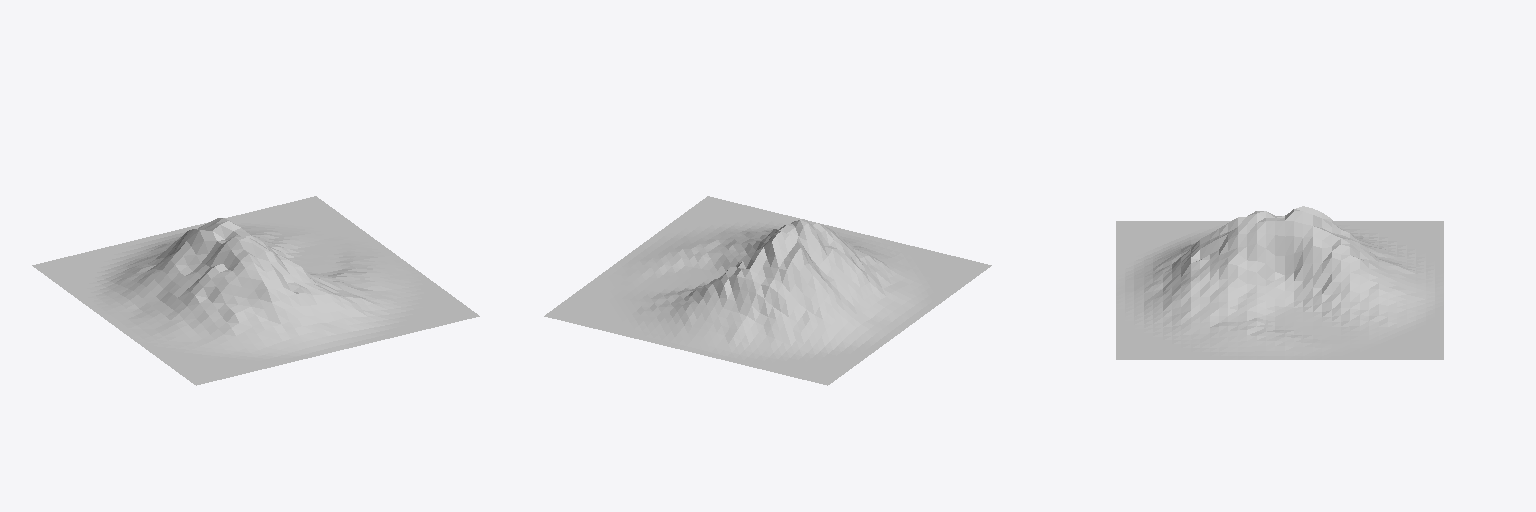
Rendered from earth.obj.
3 views of the same model, side by side, from view 1: azimuth 30°, elevation 25°; view 2: azimuth 150°, elevation 25°; view 3: azimuth 270°, elevation 25° (orthographic).
Parts seen in each view (by area): view 1: Landscape; view 2: Landscape; view 3: Landscape.
Boxes of the visible parts, <box> form: Landscape: <box>32,196,479,385</box>; Landscape: <box>544,196,991,385</box>; Landscape: <box>1116,206,1443,359</box>.
Bounding box in the file's own units: 2 × 0.4688 × 2.